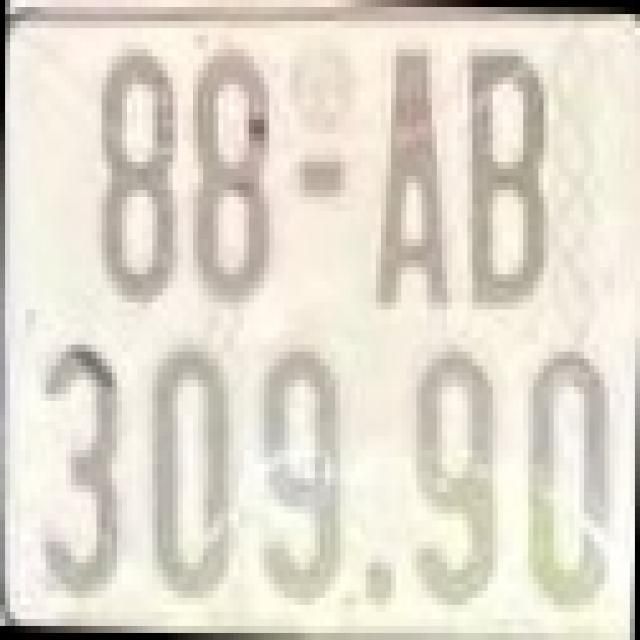0: (523, 337, 615, 605), (147, 338, 234, 598)
3: (36, 338, 127, 598)
8: (188, 42, 279, 302), (96, 50, 178, 302)
9: (406, 337, 503, 605), (254, 337, 345, 605)
A: (366, 35, 452, 317)
B: (462, 42, 554, 310)
